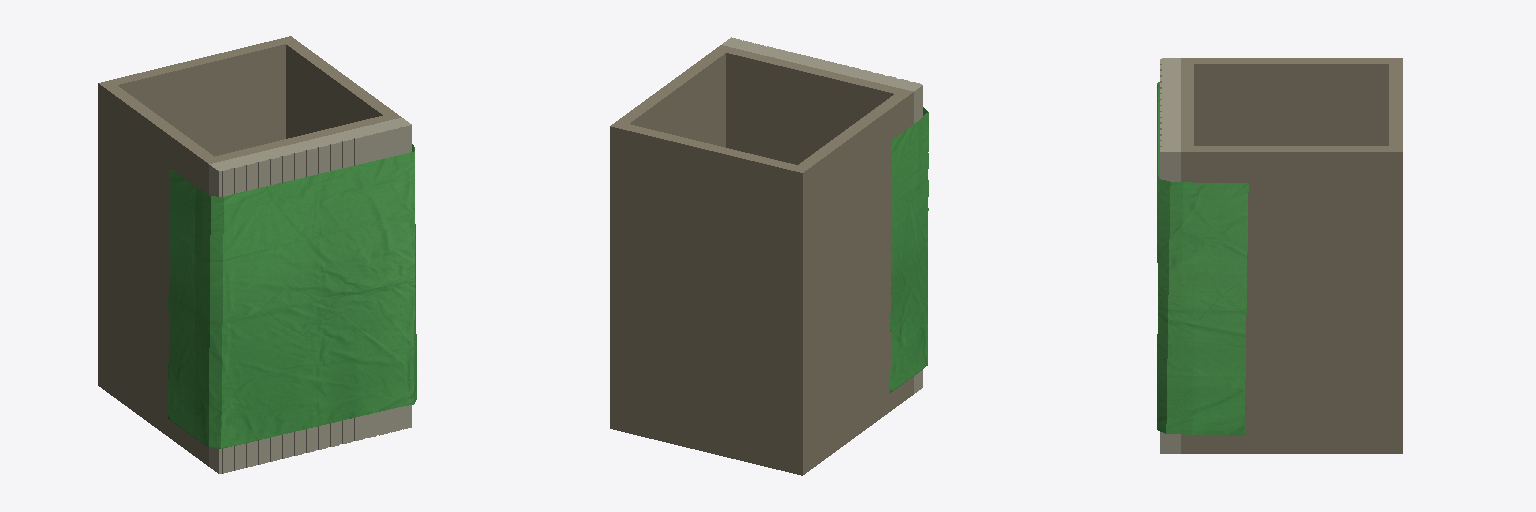
The picture shows the model from 3 angles: view 1: azimuth 30°, elevation 25°; view 2: azimuth 150°, elevation 25°; view 3: azimuth 270°, elevation 25°; orthographic projection.
Visible parts, largest first — view 1: Plane, 立方体, 立方体.001; view 2: 立方体, Plane, 立方体.001; view 3: 立方体, Plane, 立方体.001.
Boxes of the visible parts, box(x1,y1,x2,y2) form: Plane: box(168, 144, 416, 448); 立方体: box(98, 36, 401, 466); 立方体.001: box(209, 118, 411, 473); 立方体: box(610, 45, 913, 475); Plane: box(890, 107, 928, 392); 立方体.001: box(722, 37, 922, 393); 立方体: box(1181, 58, 1402, 453); Plane: box(1157, 82, 1248, 435); 立方体.001: box(1160, 58, 1180, 453).
Size of the model in its own units: 0.8775 by 1.2 by 0.8853.
Materials: 3 (1 with a texture image).